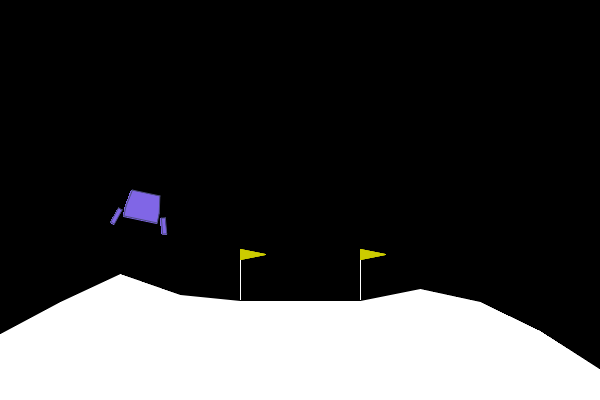lander: (108, 185, 175, 237)
